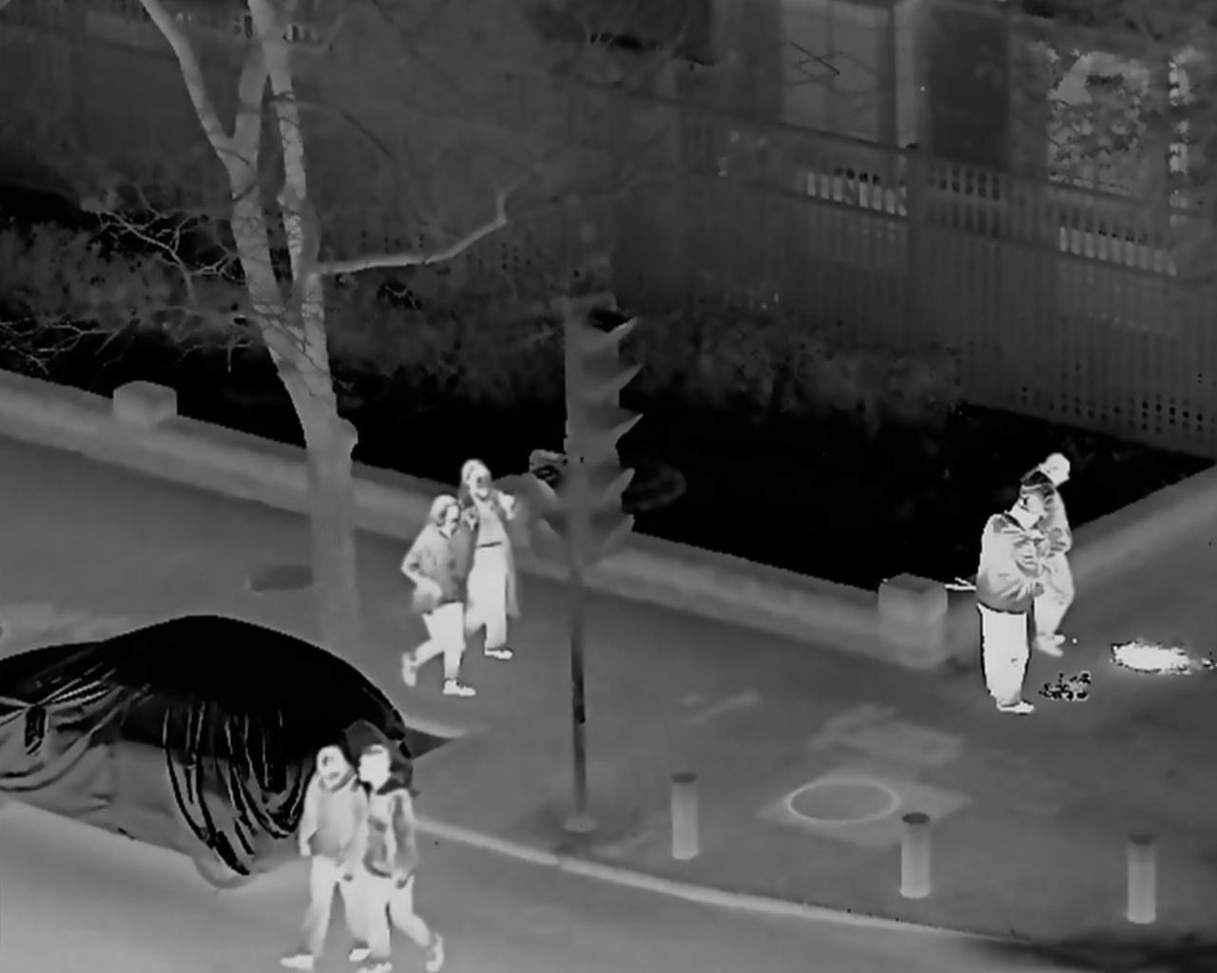person: (357, 750, 449, 973), (288, 745, 373, 971), (396, 494, 479, 703), (445, 460, 526, 670), (977, 494, 1045, 717), (1017, 452, 1084, 662)
